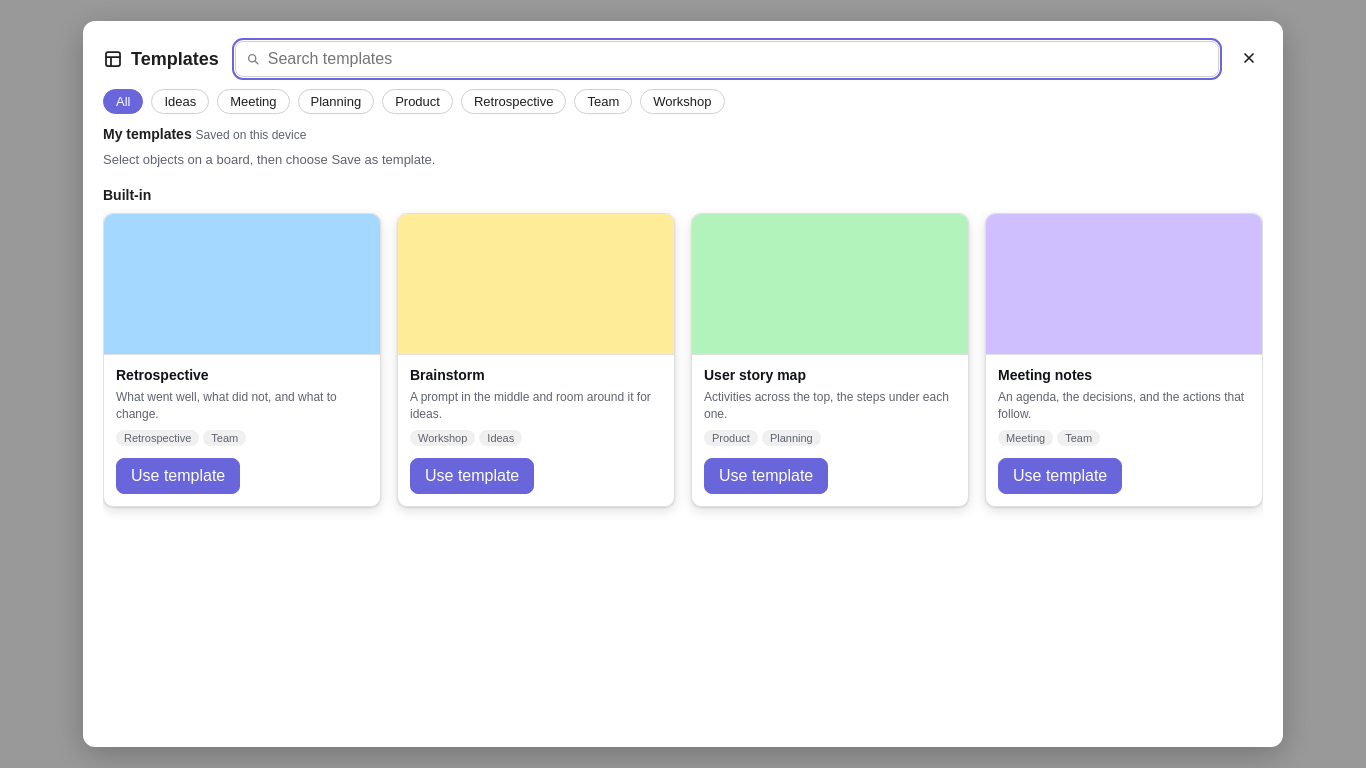
it: TemplateModal no-results state › shows the empty state on a fresh device when nothing matches
The image size is (1366, 768).
Type "zzzzqq" into the search field labelled "Search templates" at (727, 59), box [235,41,1219,77]
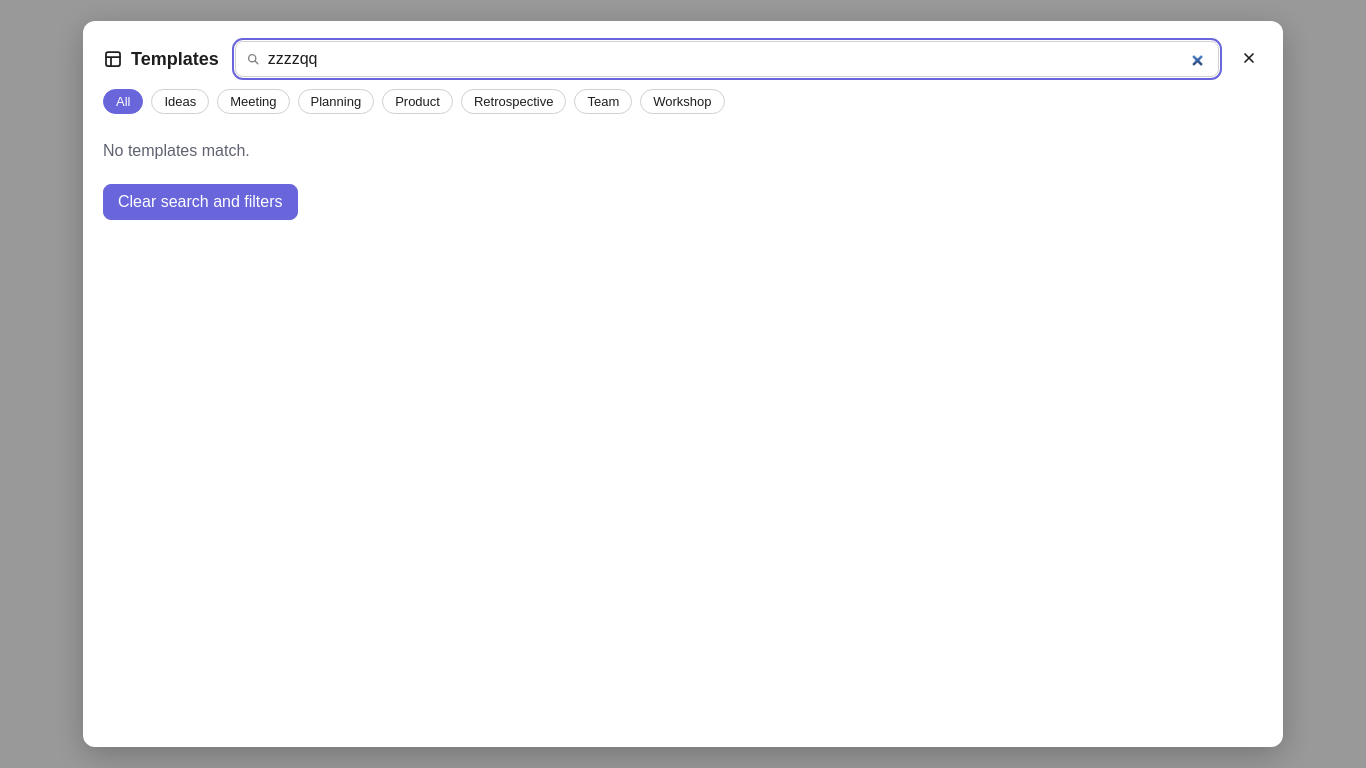
Result: the element with test id "template-no-results" is shown at [103,142,298,220]
Result: the text "No templates match." is shown at [103,142,250,160]
Result: the button with test id "template-clear-filters" is shown at [103,184,298,220]
